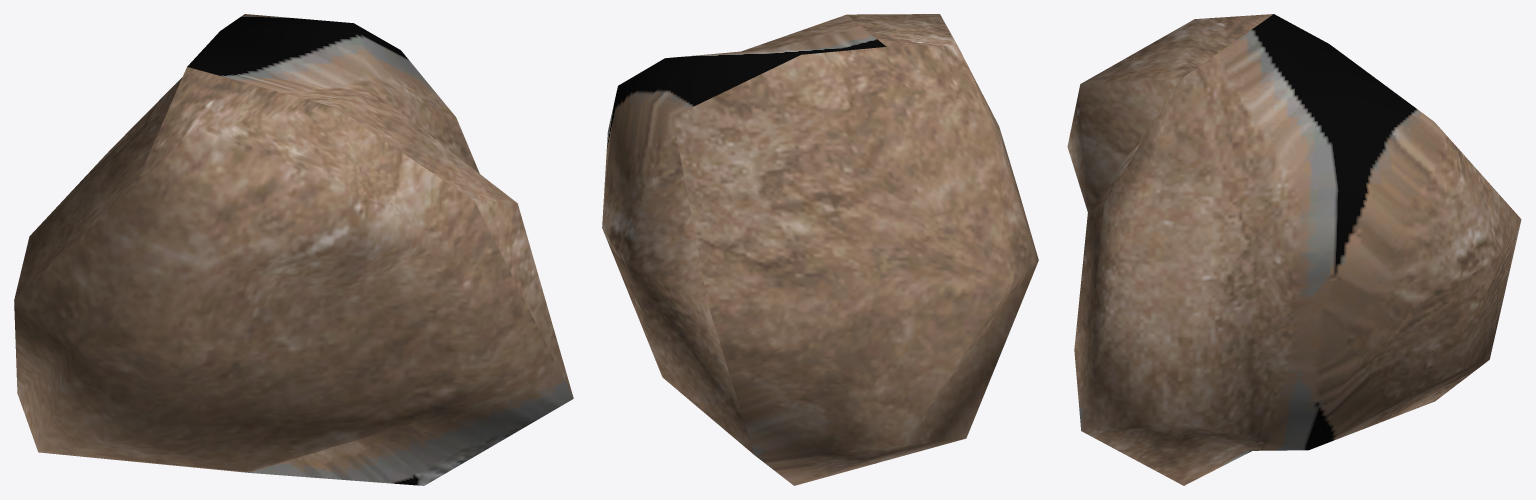
The model's file is asteroid4.fbx.
The picture shows the model from 3 angles, left to right: view 1: azimuth 30°, elevation 25°; view 2: azimuth 150°, elevation 25°; view 3: azimuth 270°, elevation 25°; orthographic projection. The views are drawn at different scales.
Visible parts, largest first — view 1: PipelineFBX; view 2: PipelineFBX; view 3: PipelineFBX.
Boxes of the visible parts, x1=… form: PipelineFBX: x1=14, y1=14, x2=573, y2=485; PipelineFBX: x1=602, y1=14, x2=1038, y2=485; PipelineFBX: x1=1067, y1=14, x2=1521, y2=485.
Size of the model in its own units: 217 by 201 by 213.
1 material, 1 textured.
